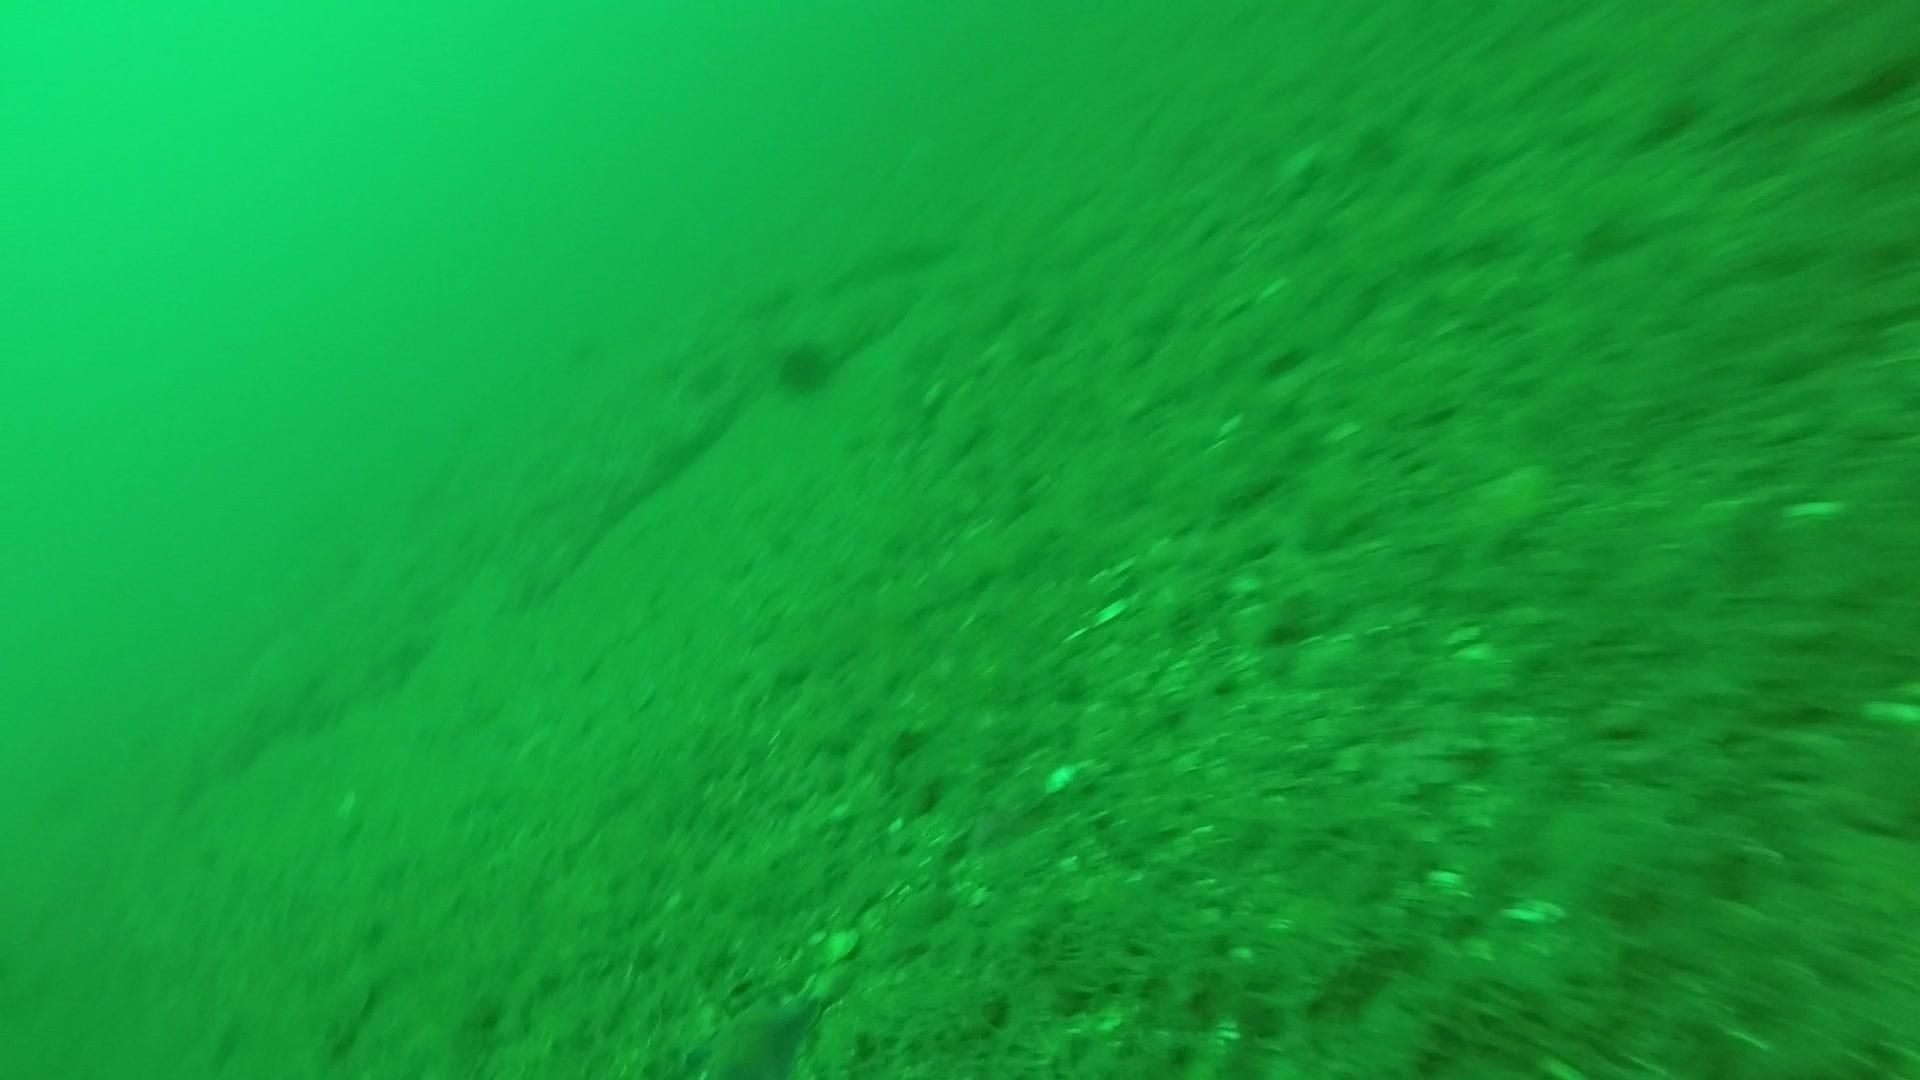echinus: (771, 334, 841, 398)
starfish: (684, 978, 828, 1077)
